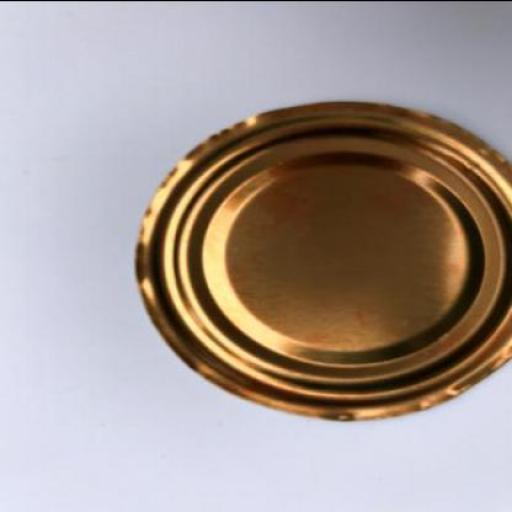metal: (134, 100, 511, 424)
